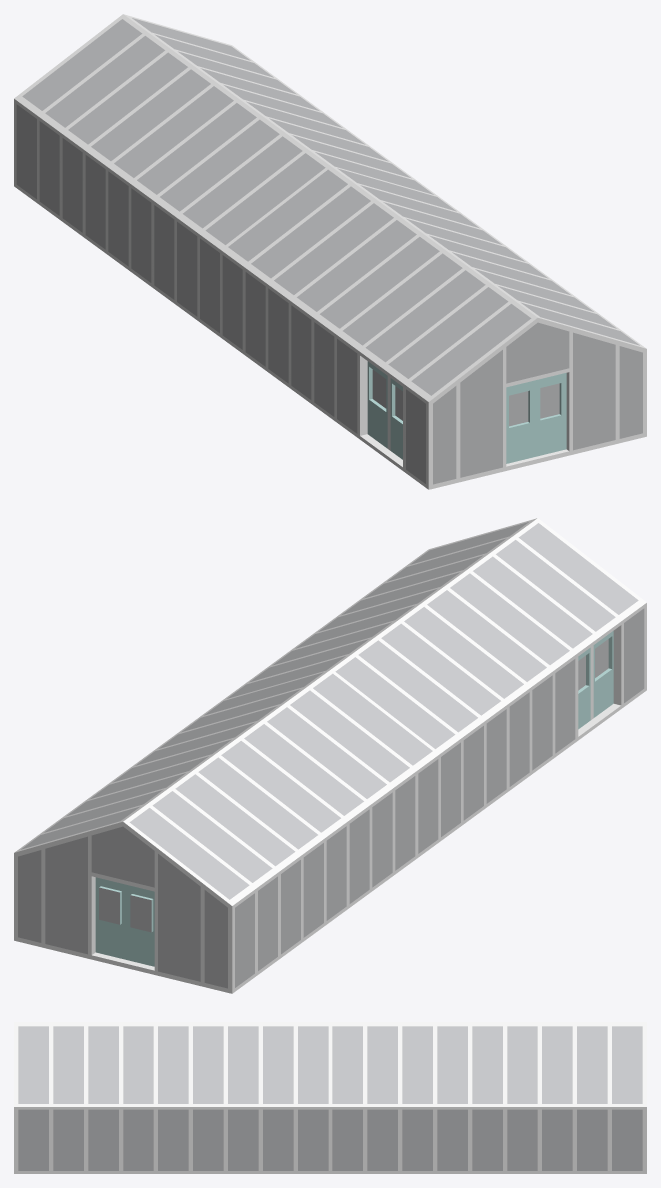
File: GreenHouse.fbx
The picture shows the model from 3 angles, top to bottom: view 1: azimuth 30°, elevation 25°; view 2: azimuth 150°, elevation 25°; view 3: azimuth 270°, elevation 25°; orthographic projection. The views are drawn at different scales.
Parts seen in each view (by area): view 1: GreenHouse; view 2: GreenHouse; view 3: GreenHouse.
Boxes of the visible parts, x1=… form: GreenHouse: x1=14, y1=14, x2=646, y2=489; GreenHouse: x1=14, y1=518, x2=646, y2=993; GreenHouse: x1=14, y1=1022, x2=646, y2=1173.
Bounding box in the file's own units: 6.16 × 3.93 × 20.27.
